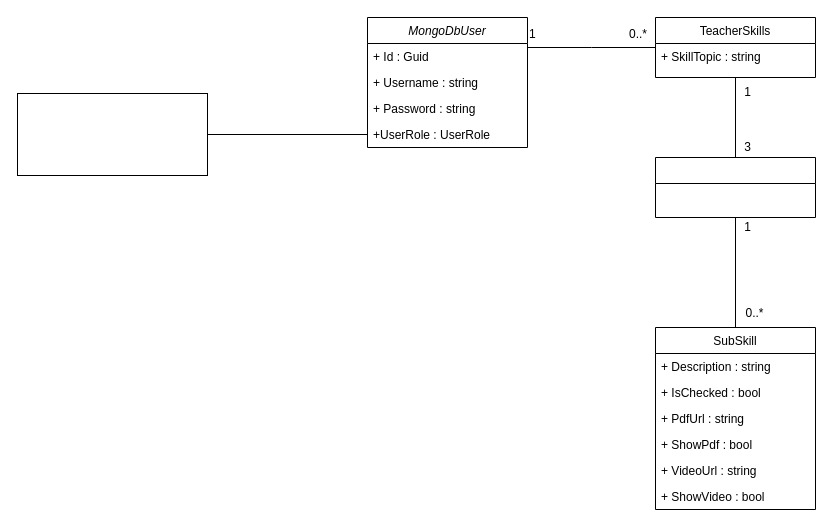
Image size: 833x530. Some labels were removed from this diagram. The centre of each missing label's shape, as x and y in pixels:
<<enumeration>> UserRole Admin Teacher: the point at 112,134
SkillLevel: the point at 735,187
